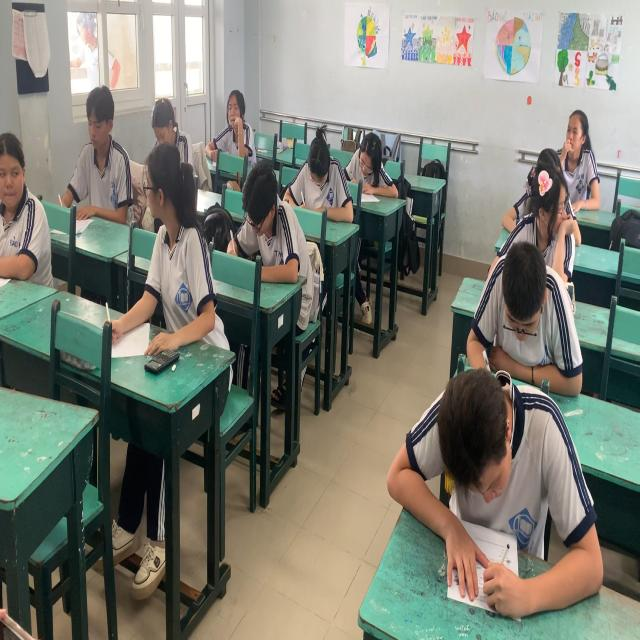cheating: (131, 147, 223, 370), (0, 87, 47, 287), (518, 146, 568, 250)
not_cheating: (388, 370, 599, 602), (492, 229, 592, 377), (236, 156, 295, 271), (77, 80, 121, 184), (555, 94, 603, 181), (341, 118, 396, 184), (302, 121, 341, 212), (146, 94, 182, 153), (220, 91, 252, 142)
